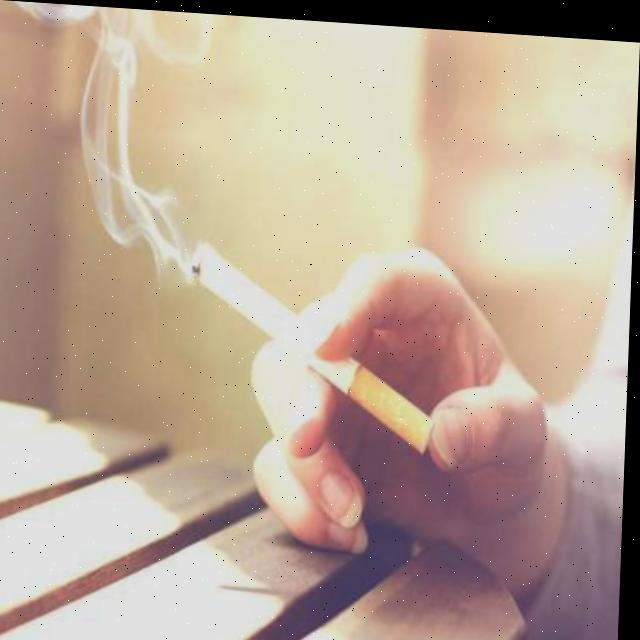cigarette: (186, 237, 445, 451)
